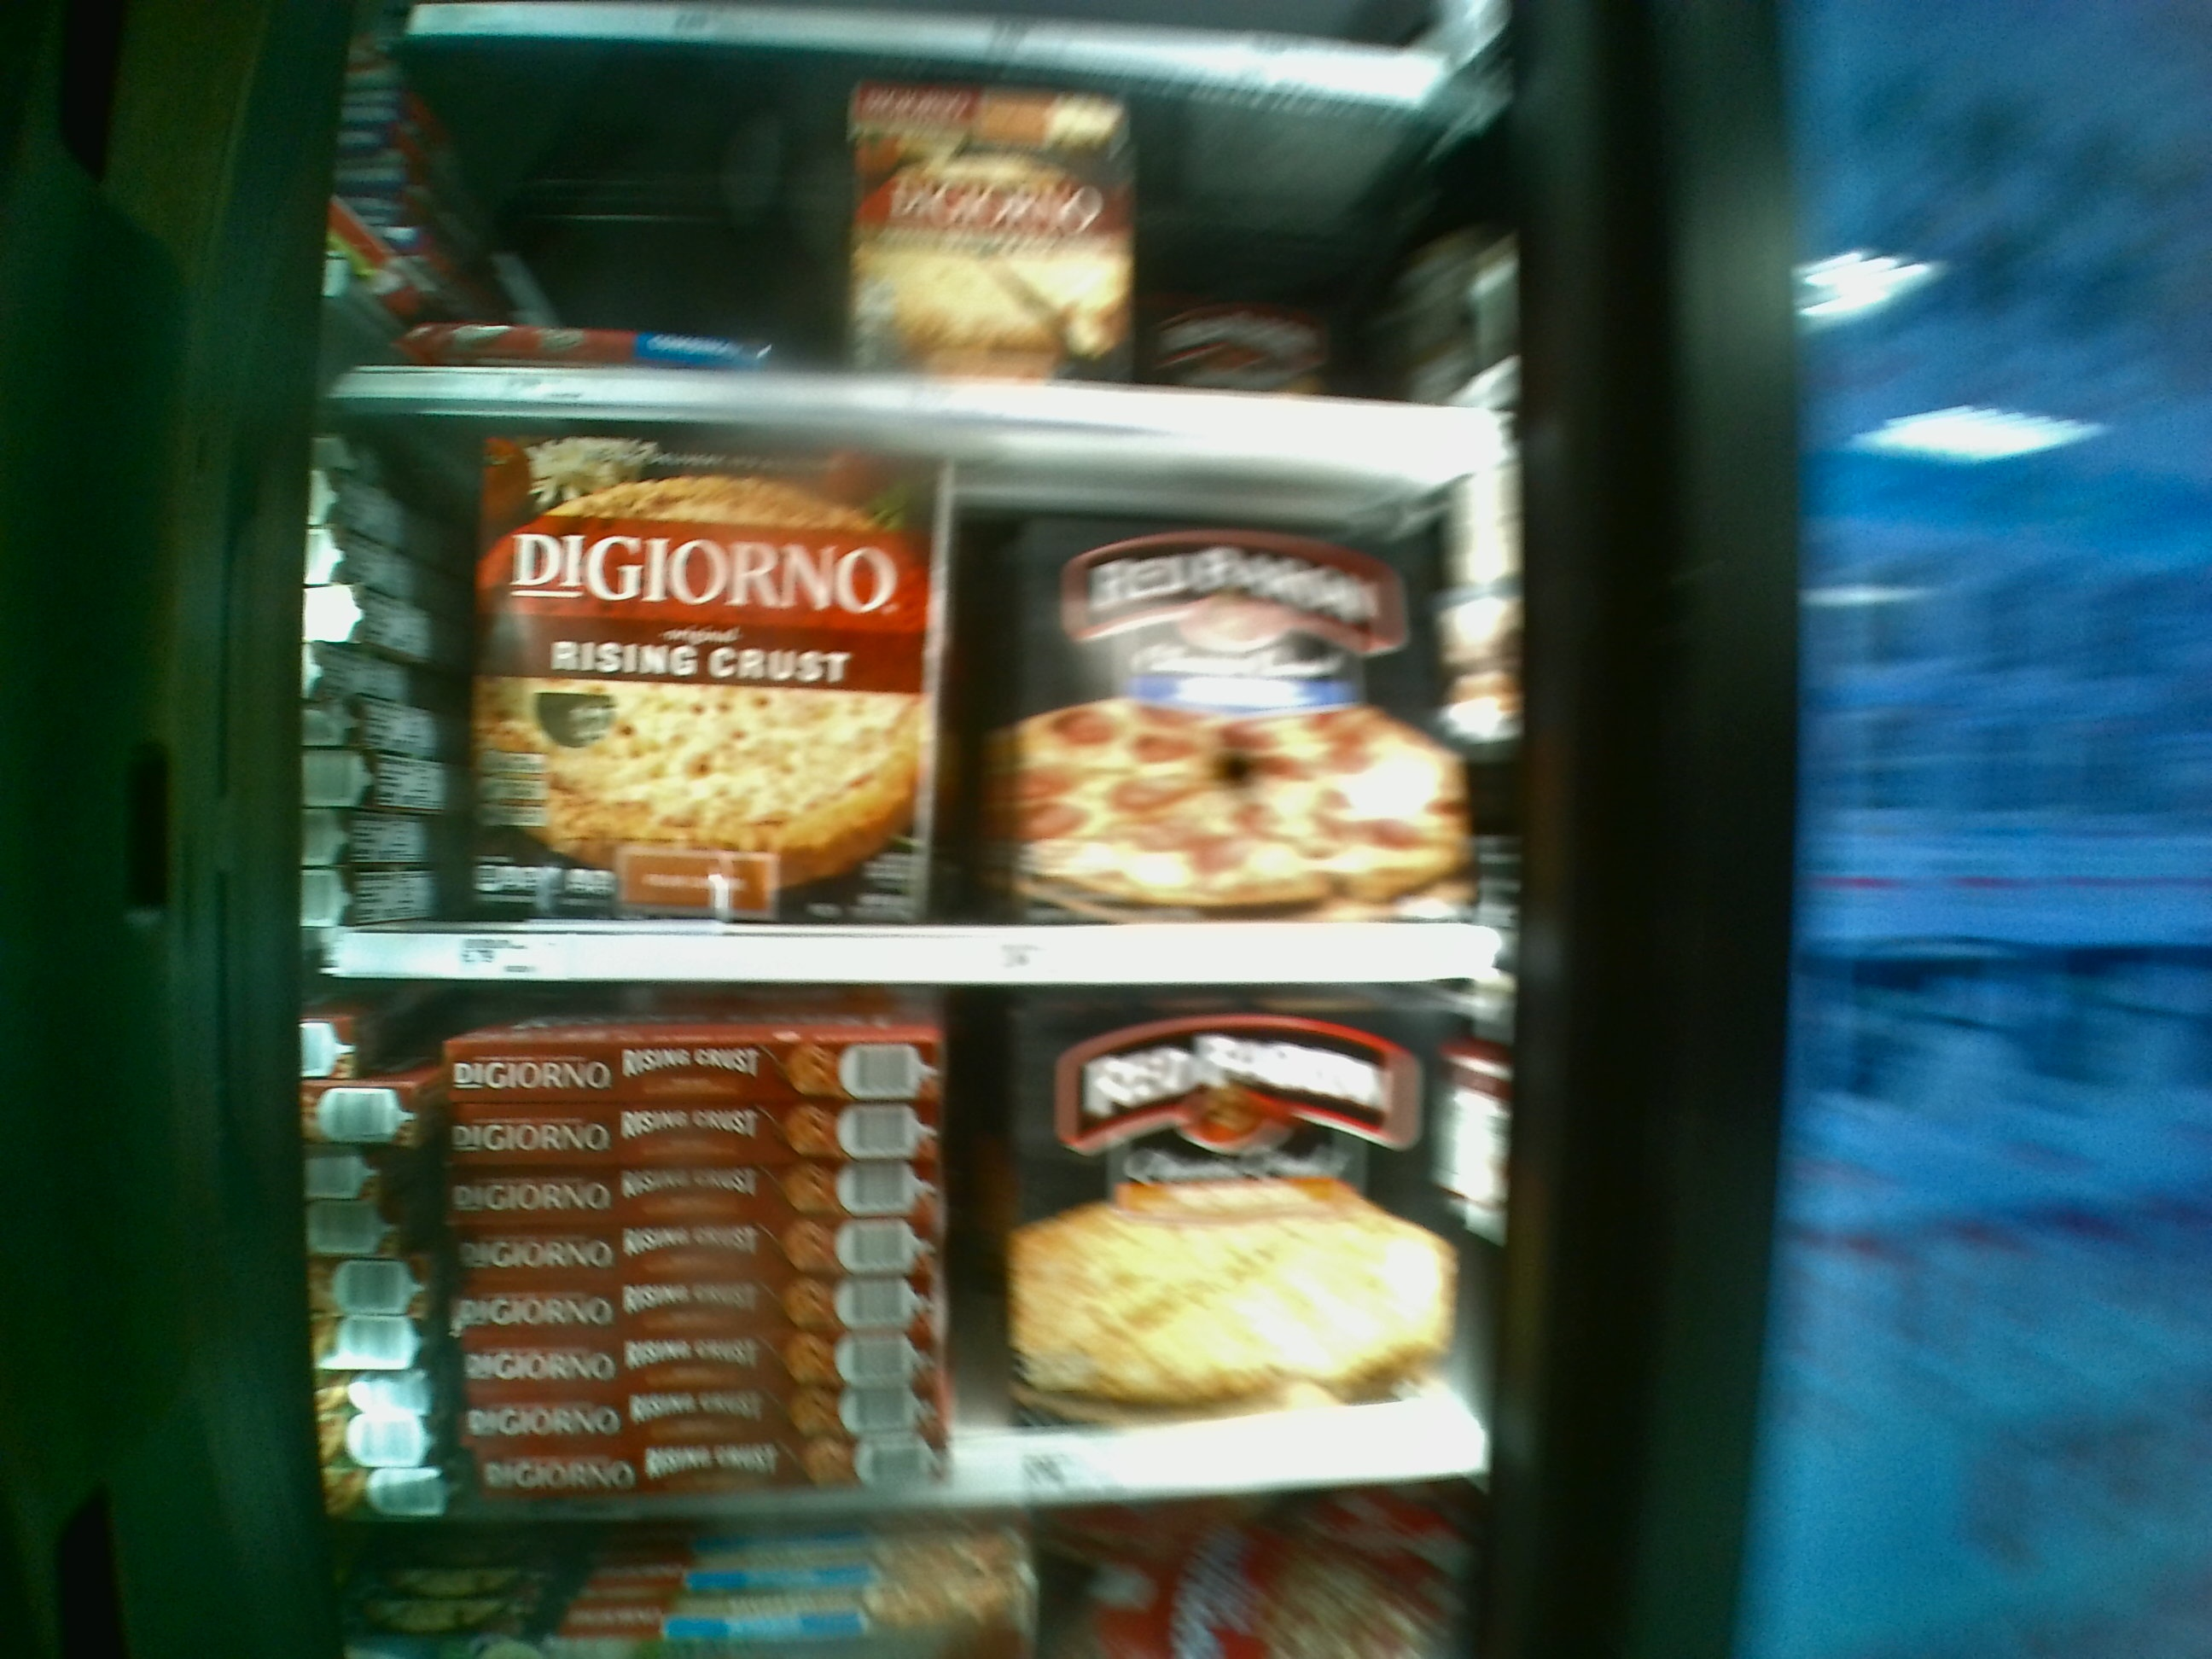shelf: (343, 399, 1515, 978), (352, 972, 1489, 1527)
